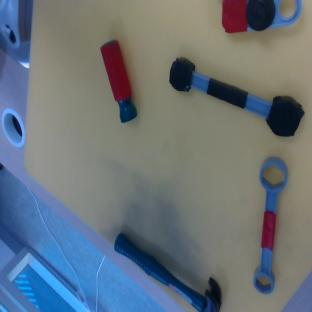part_2_good: (99, 39, 139, 124)
part_3_bad: (161, 54, 308, 141)
part_3_good: (245, 155, 290, 294)
